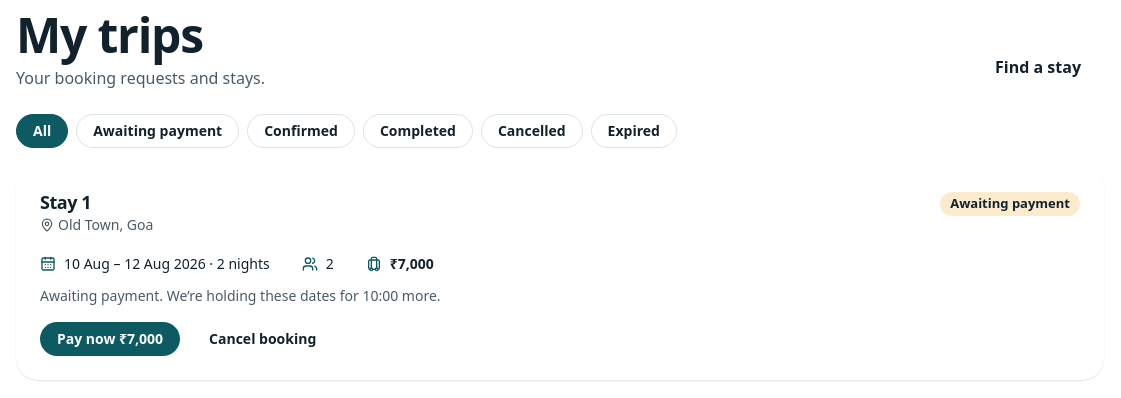
Test: MyTrips › lists bookings with the status filter sent to the API
Expected: the link "Stay 1" is shown, [40, 190, 91, 214]
Expected: the text "₹7,000" is shown, [390, 254, 434, 273]
Click the button "Cancelled" at (532, 131), box [481, 114, 583, 148]
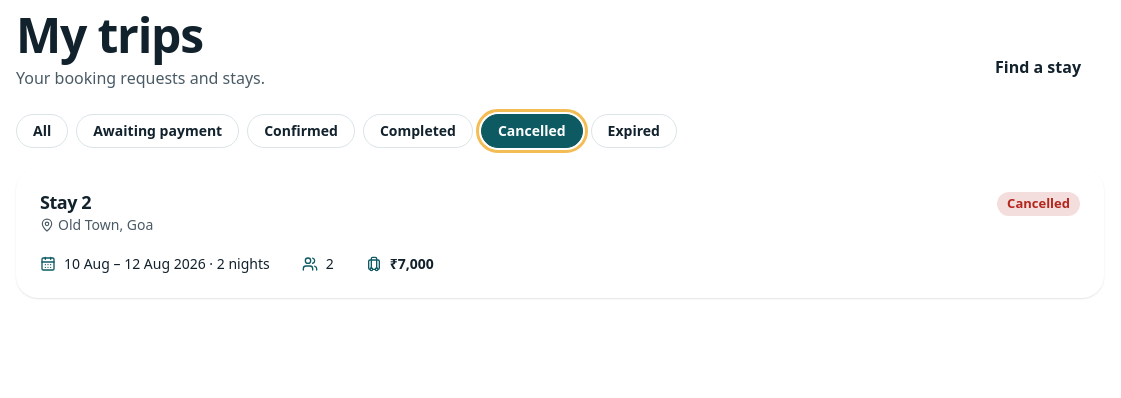
Now the link "Stay 2" is shown, box [40, 190, 91, 214]
Now the button "Cancel booking" is gone
